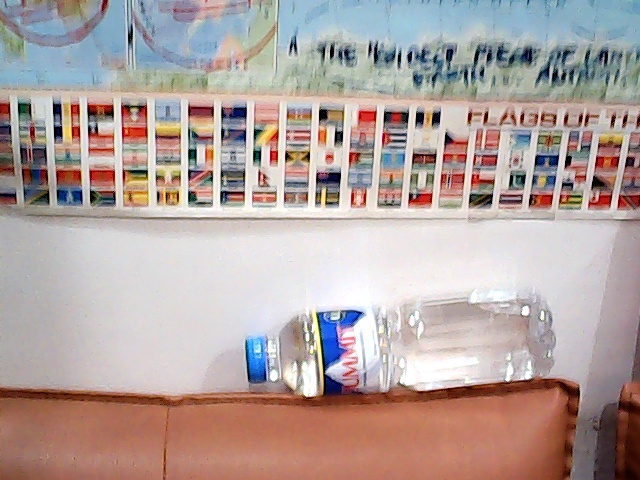Summit Water: (231, 299, 558, 393)
